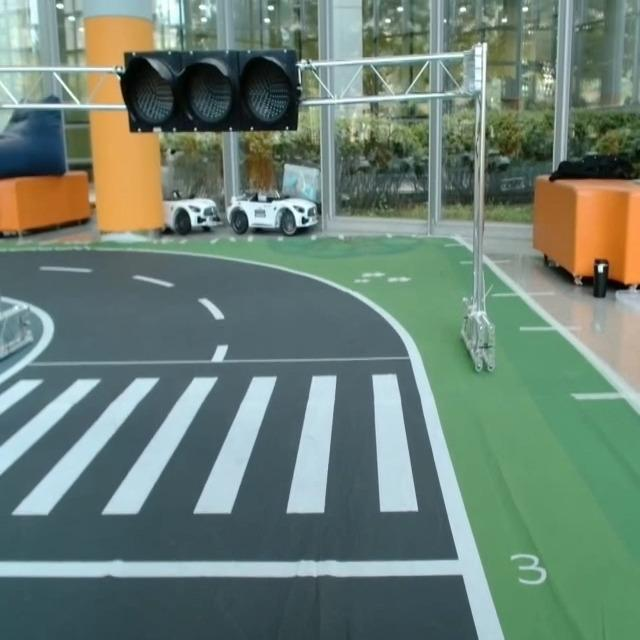traffic-light: (107, 47, 301, 138)
